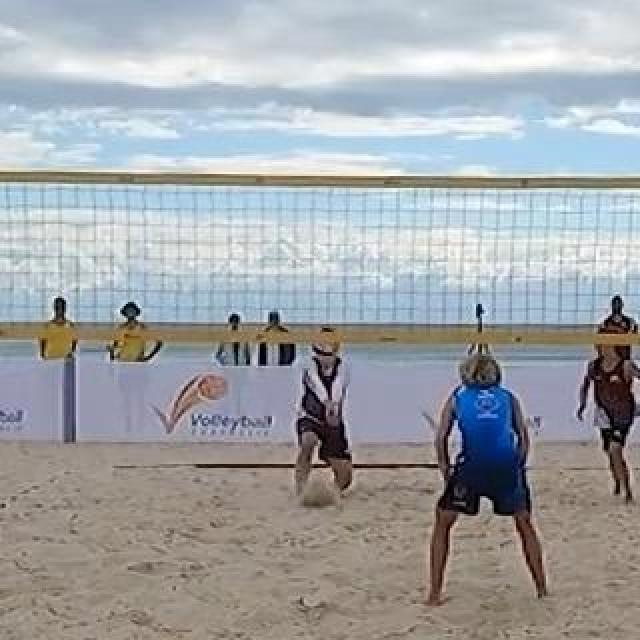volleyball: (311, 338, 335, 362)
